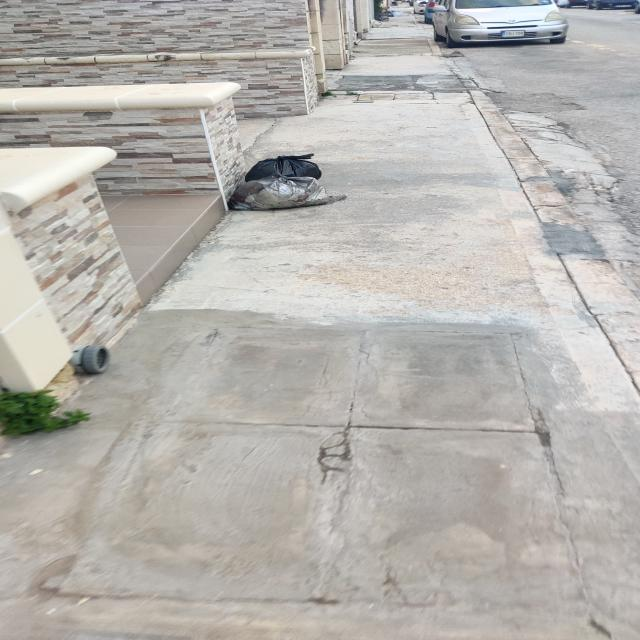Recyclable Material -Grey Bags-: (230, 154, 347, 212)
